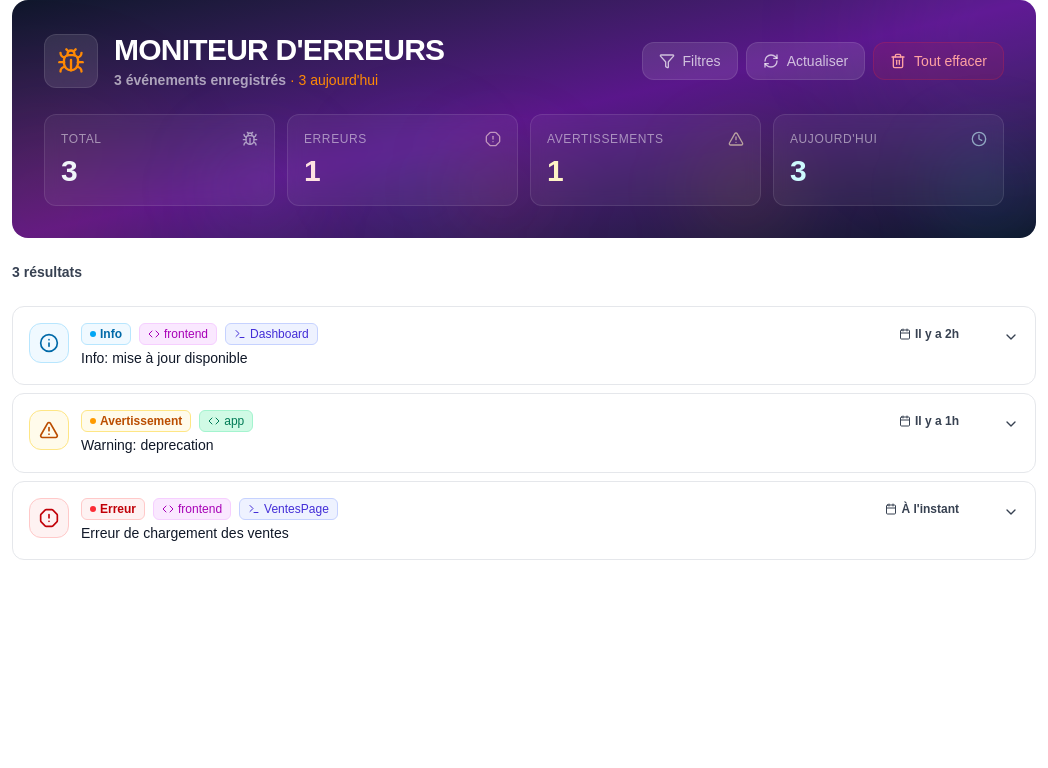
Test case: ErrorsPage › filtre par niveau
This screenshot has width=1048, height=768.
Expected: the heading "Moniteur d'Erreurs" is shown, x1=114 y1=32 x2=444 y2=68
Click the button "Filtres" at (690, 61), box x1=642 y1=42 x2=738 y2=80
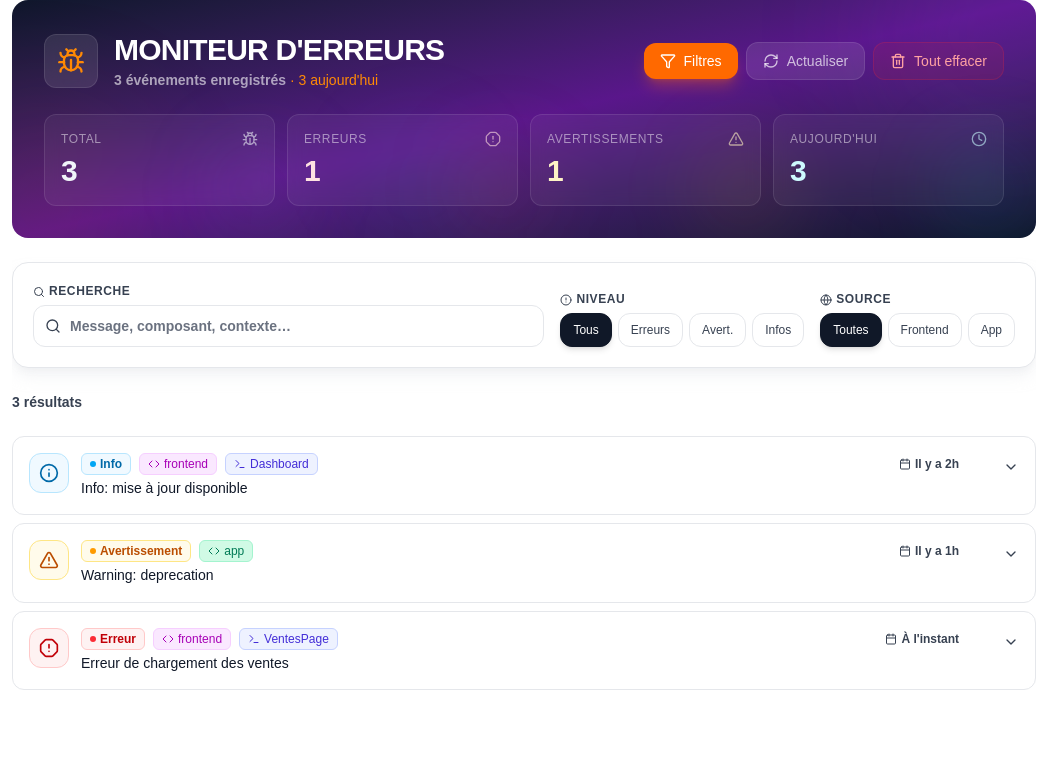
Expected: the button "Tous" is shown, x1=560 y1=313 x2=612 y2=347
